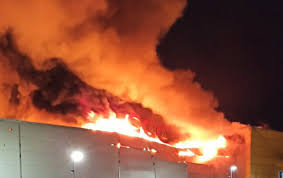fire: (32, 51, 251, 168)
